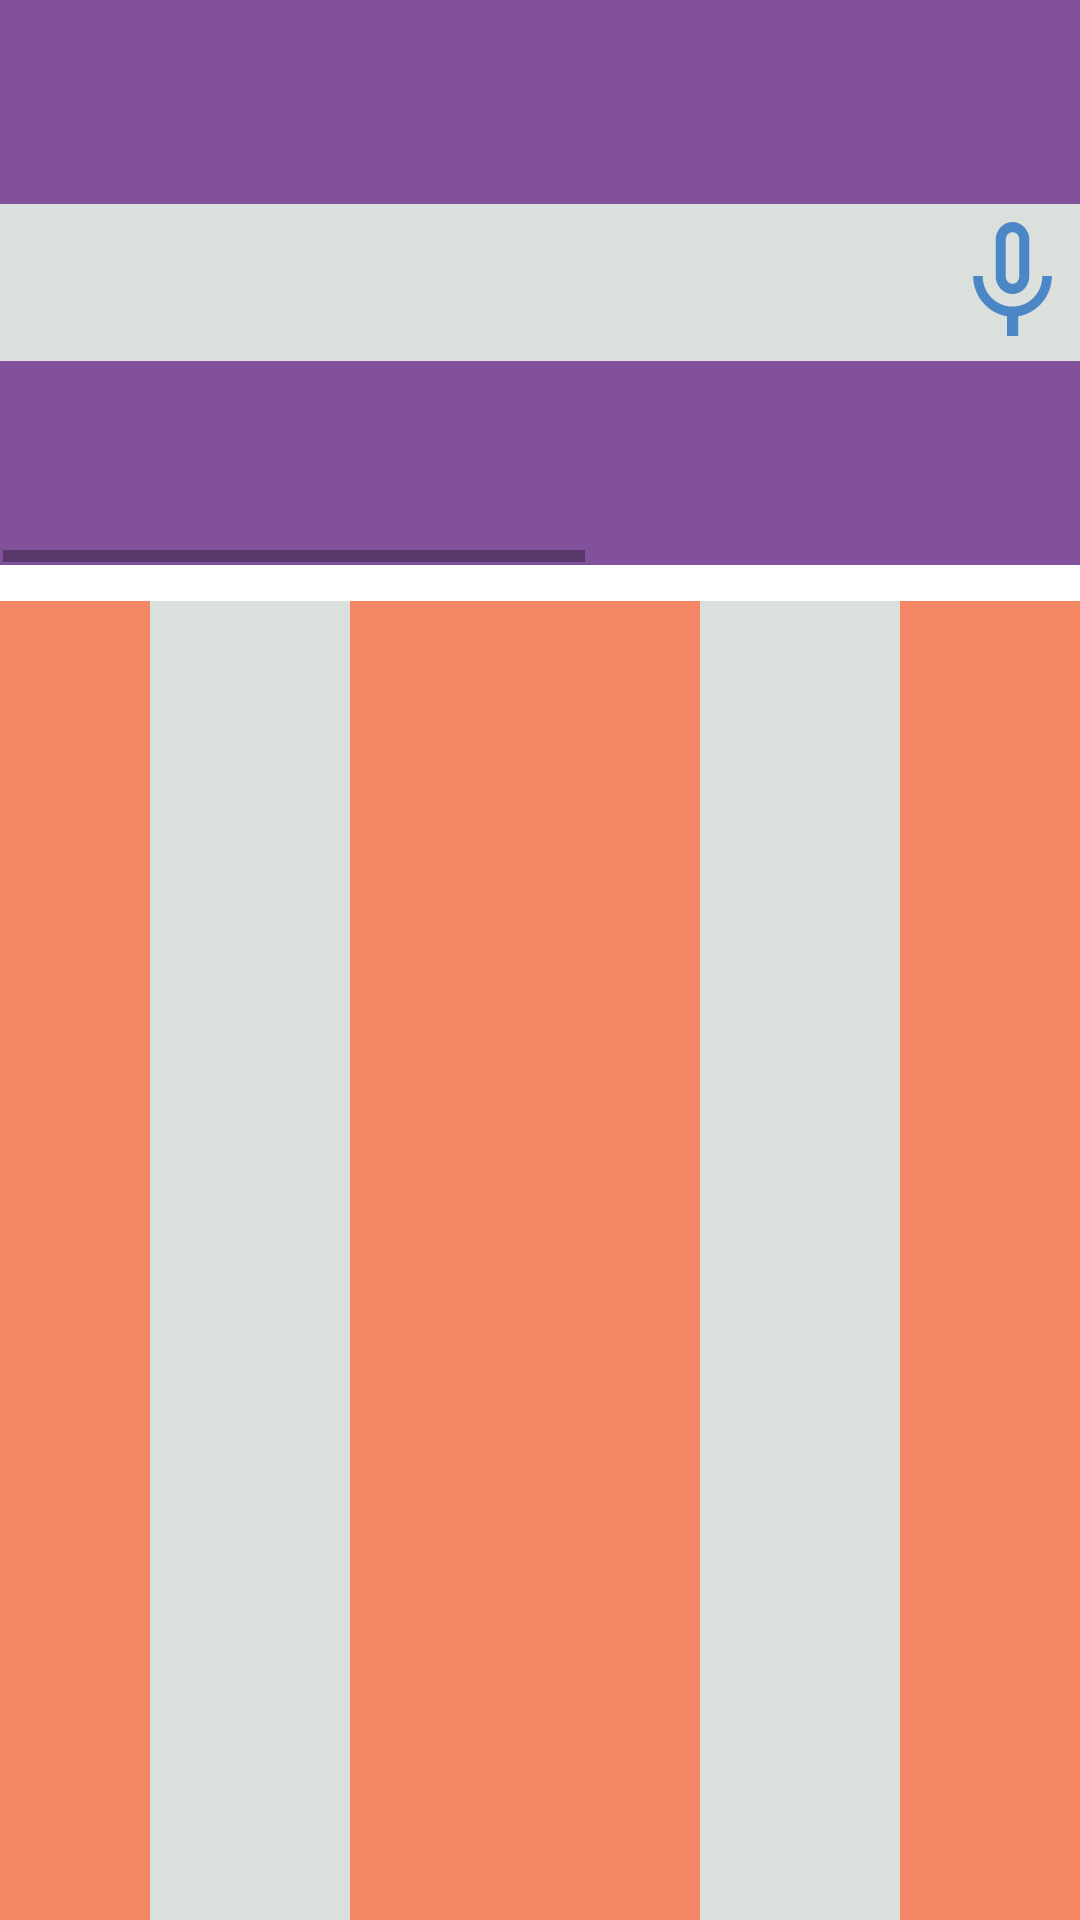

Icon bounding boxes for this 1080px x 1920px phone screenshot, format (x1, y1, x2, y2):
mic: (973, 222, 1052, 336)
